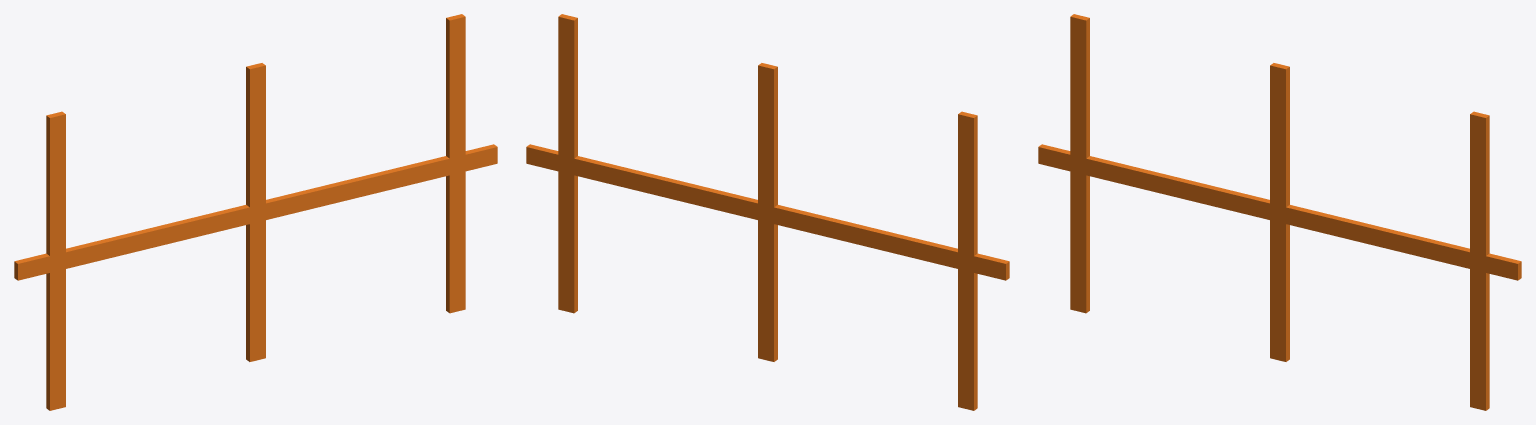
3 views of the same model, side by side, from view 1: azimuth 30°, elevation 25°; view 2: azimuth 150°, elevation 25°; view 3: azimuth 330°, elevation 25° (orthographic).
Parts seen in each view (by area): view 1: gripper_frame; view 2: gripper_frame; view 3: gripper_frame.
Boxes of the visible parts, box(x1,y1,x2,y2) form: gripper_frame: box(14, 14, 497, 410); gripper_frame: box(526, 14, 1009, 410); gripper_frame: box(1038, 14, 1521, 410).
Bounding box in the file's own units: 0.6 × 0.35 × 0.00798.
